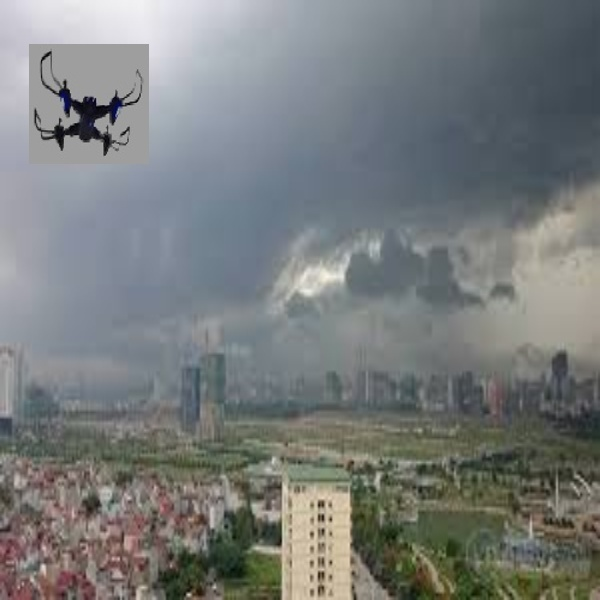drone: (29, 46, 152, 158)
